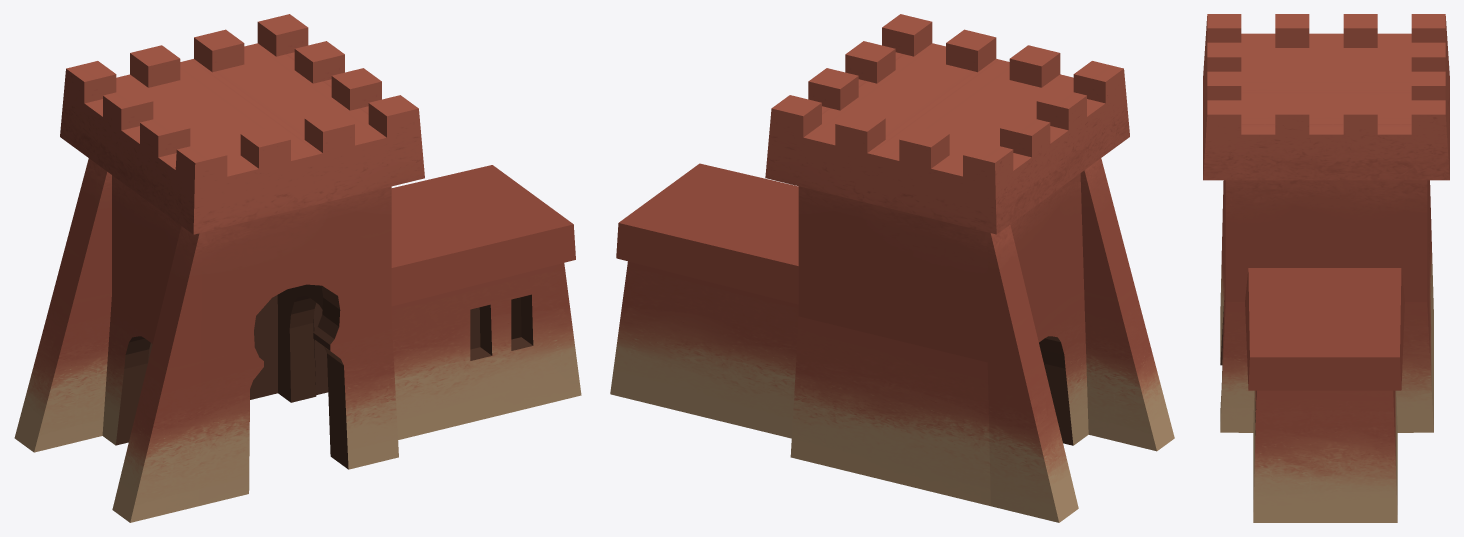
File: BuildingB.fbx
The picture shows the model from 3 angles, left to right: view 1: azimuth 30°, elevation 25°; view 2: azimuth 150°, elevation 25°; view 3: azimuth 270°, elevation 25°; orthographic projection. The views are drawn at different scales.
Parts seen in each view (by area): view 1: building market; view 2: building market; view 3: building market.
Part boxes in pixels (x1,y1,x2,y2): building market: (14, 14, 581, 522); building market: (610, 14, 1174, 522); building market: (1203, 14, 1449, 522).
Size of the model in its own units: 933 by 667 by 461.
